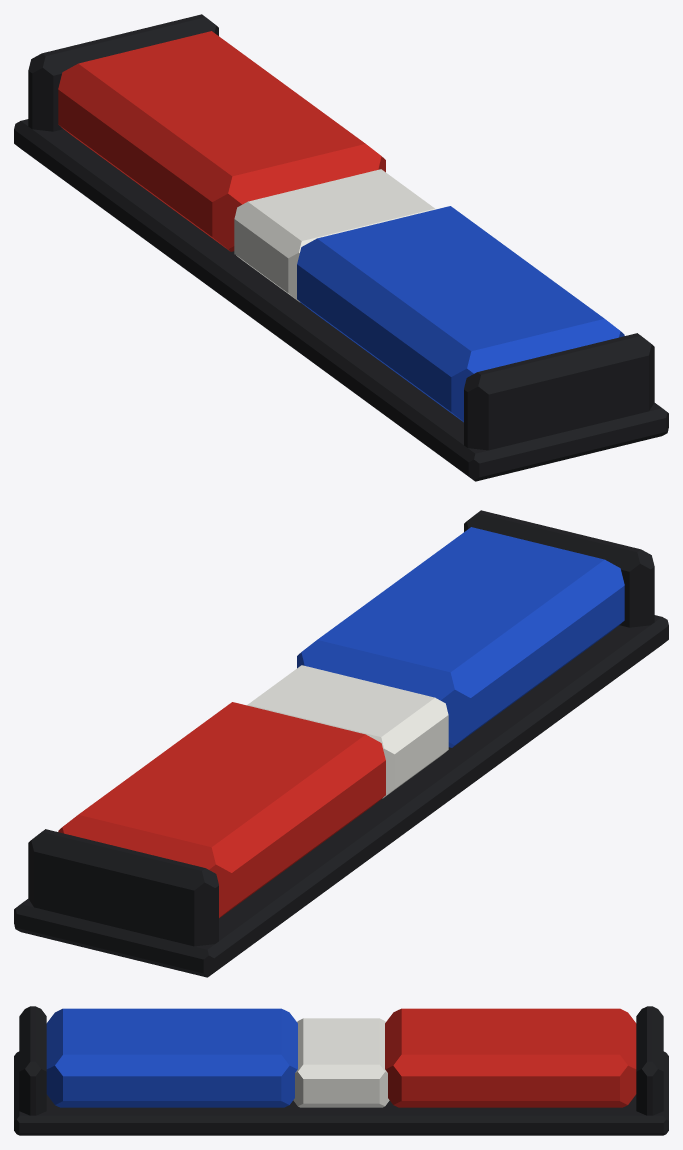
File: gyrophare.glb
3 renders of one model, top to bottom at view 1: azimuth 30°, elevation 25°; view 2: azimuth 150°, elevation 25°; view 3: azimuth 270°, elevation 25°, orthographic. The views are drawn at different scales.
Parts seen in each view (by area): view 1: red, blue, base, cap_r, centre, cap_l; view 2: blue, red, base, cap_l, centre, cap_r; view 3: red, blue, base, centre, cap_l, cap_r.
Boxes of the visible parts, left/top/right/bottom form: red: left=58, top=31, right=385, bottom=251; blue: left=297, top=206, right=624, bottom=422; base: left=14, top=119, right=668, bottom=481; cap_r: left=464, top=333, right=654, bottom=450; centre: left=234, top=169, right=435, bottom=302; cap_l: left=28, top=14, right=218, bottom=131; blue: left=297, top=527, right=624, bottom=747; red: left=58, top=702, right=385, bottom=918; base: left=14, top=615, right=668, bottom=977; cap_l: left=28, top=829, right=218, bottom=946; centre: left=247, top=665, right=448, bottom=798; cap_r: left=464, top=510, right=654, bottom=627; red: left=385, top=1008, right=636, bottom=1107; blue: left=46, top=1008, right=297, bottom=1107; base: left=14, top=1051, right=668, bottom=1135; centre: left=293, top=1018, right=389, bottom=1107; cap_l: left=636, top=1006, right=663, bottom=1115; cap_r: left=19, top=1006, right=46, bottom=1115.
Size of the model in its own units: 0.3 by 0.145 by 1.2.
4 materials, 4 textured.
